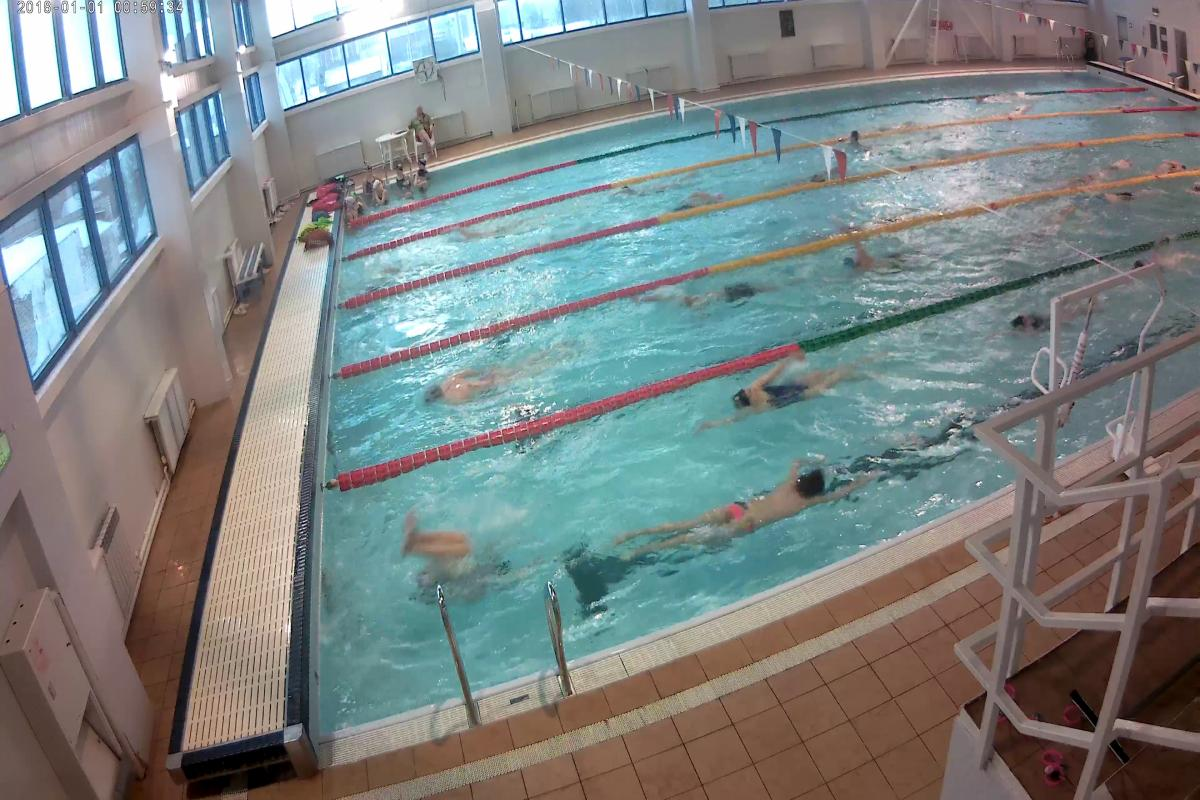swimmer: (622, 480, 850, 557), (396, 527, 495, 584), (730, 378, 865, 418), (444, 350, 538, 397), (685, 271, 773, 320), (836, 235, 930, 278), (1001, 314, 1052, 336)
